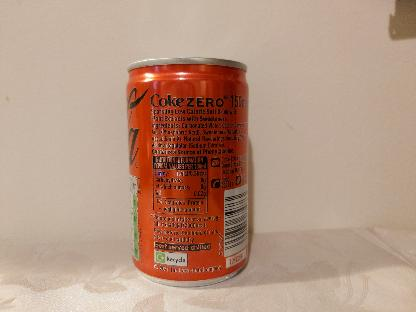Can: (125, 56, 251, 288)
